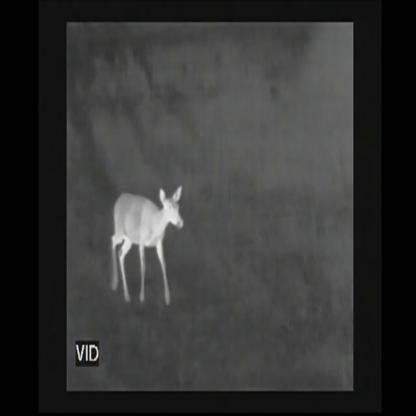rehkitze: (112, 183, 186, 315)
